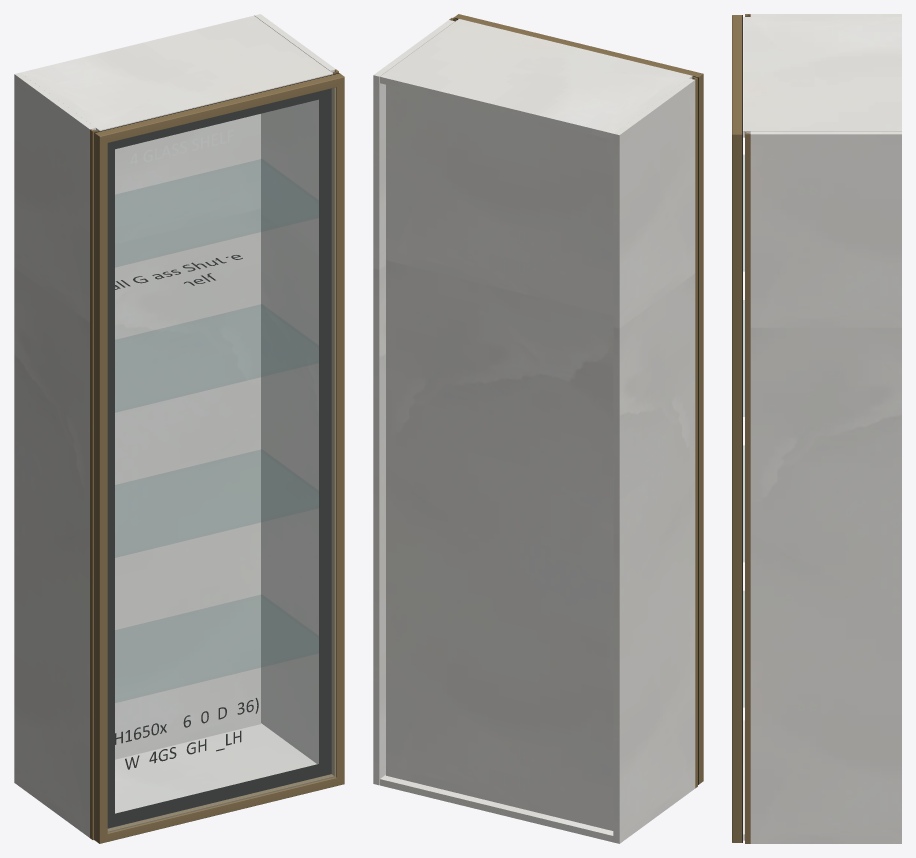
File: MDW-SH-NHX-GL-4SG-LHS-XXX-600-1650-336-15.glb
3 renders of one model, left to right at view 1: azimuth 30°, elevation 25°; view 2: azimuth 150°, elevation 25°; view 3: azimuth 270°, elevation 25°, orthographic.
Parts seen in each view (by area): view 1: Object_node_13, TP_node_2, TP_node_0, TP_node_1, Neon 22 Profile ALU PROF NEON 20 L21XH22.5MM 3MTR S2/405 SEC (×4), Object_node_15, TP, TP_node, Object_node_17; view 2: TP_node_2, TP_node_0, TP, TP_node_1, Neon 22 Profile ALU PROF NEON 20 L21XH22.5MM 3MTR S2/405 SEC (×2), TP_node, Object_node_17, Object_node_15; view 3: TP_node_1, TP, Neon 22 Profile ALU PROF NEON 20 L21XH22.5MM 3MTR S2/405 SEC (×2), Object_node_23, Object_node_15, TP_node_0.
Boxes of the visible parts, left/top/right/bottom form: Object_node_13: left=108, top=88, right=335, bottom=832; TP_node_2: left=115, top=114, right=260, bottom=759; TP_node_0: left=14, top=72, right=95, bottom=837; TP_node_1: left=254, top=14, right=335, bottom=764; Neon 22 Profile ALU PROF NEON 20 L21XH22.5MM 3MTR S2/405 SEC (×4): left=94, top=73, right=344, bottom=843; Object_node_15: left=94, top=73, right=339, bottom=839; TP: left=21, top=15, right=332, bottom=131; TP_node: left=115, top=723, right=316, bottom=813; Object_node_17: left=90, top=129, right=97, bottom=839; TP_node_2: left=386, top=84, right=613, bottom=830; TP_node_0: left=613, top=78, right=695, bottom=843; TP: left=380, top=19, right=692, bottom=139; TP_node_1: left=373, top=20, right=454, bottom=785; Neon 22 Profile ALU PROF NEON 20 L21XH22.5MM 3MTR S2/405 SEC (×2): left=454, top=14, right=703, bottom=784; TP_node: left=380, top=775, right=613, bottom=842; Object_node_17: left=692, top=76, right=697, bottom=788; Object_node_15: left=453, top=17, right=698, bottom=784; TP_node_1: left=750, top=131, right=901, bottom=843; TP: left=743, top=17, right=901, bottom=137; Neon 22 Profile ALU PROF NEON 20 L21XH22.5MM 3MTR S2/405 SEC (×2): left=732, top=15, right=742, bottom=842; Object_node_23: left=745, top=132, right=750, bottom=843; Object_node_15: left=742, top=15, right=742, bottom=842; TP_node_0: left=750, top=14, right=901, bottom=16.
Size of what is drawn, in the model's own units: 0.6001 by 1.65 by 0.358.
Materials: 7 (1 with a texture image).
